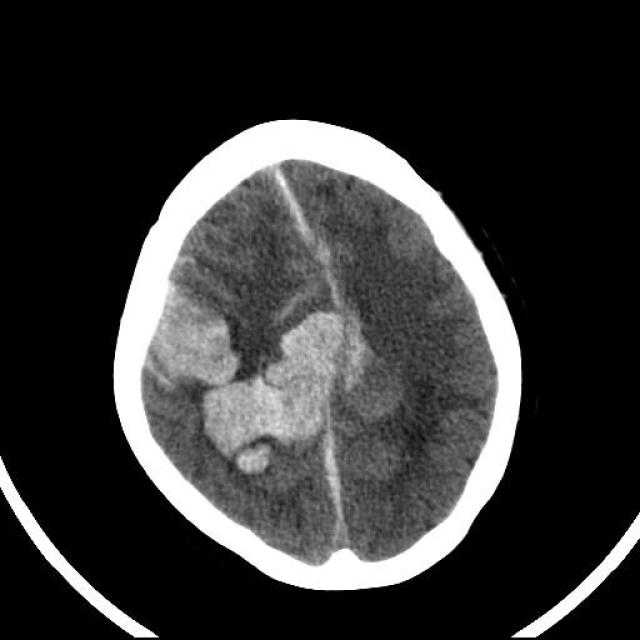Intraparenchymal: (193, 310, 395, 482), (115, 280, 266, 385)
Subdural: (317, 440, 373, 566)
